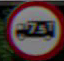Heavy Vehicles: (1, 4, 58, 49)
